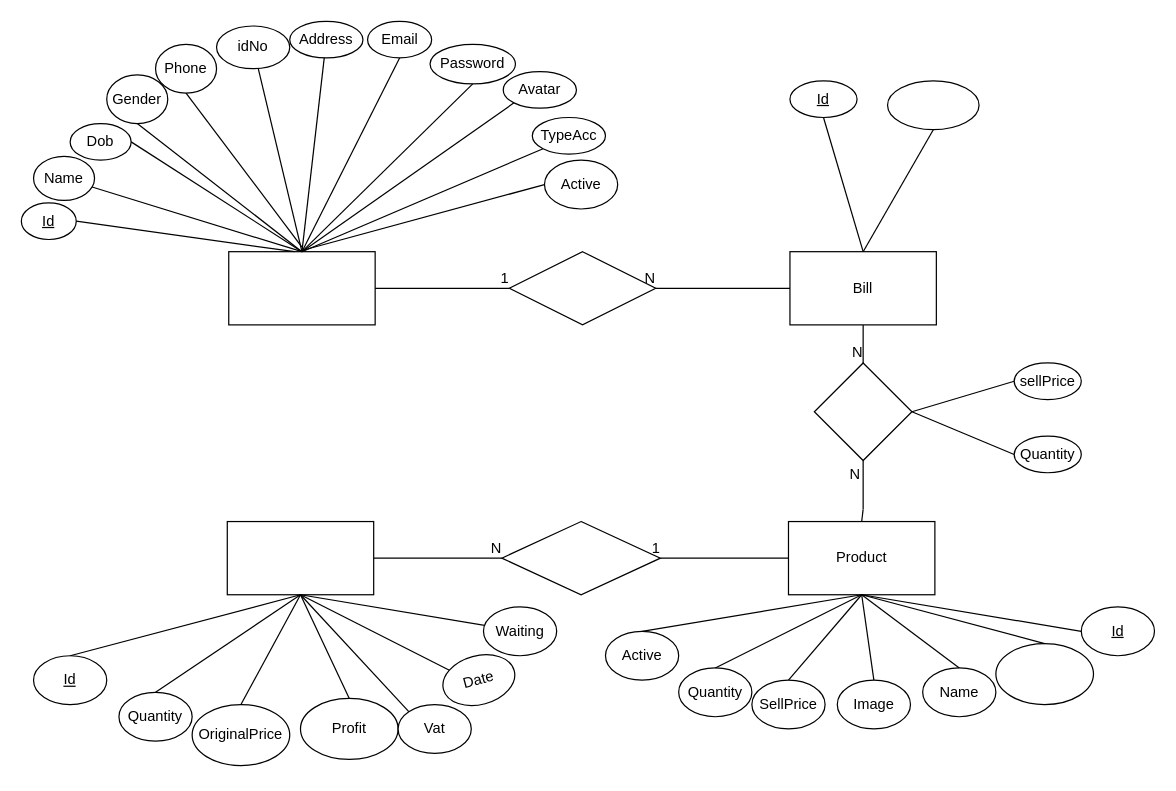
This 1176x791 diagram has some shape labels left out. Each missing label, with the box of its shape:
Account: (228, 250, 375, 325)
BillDetail: (813, 362, 912, 461)
Category: (995, 642, 1093, 705)
createDate: (886, 80, 979, 130)
Inventory: (226, 520, 374, 595)
Inventory manage: (501, 520, 660, 595)
Manage: (508, 250, 656, 325)
